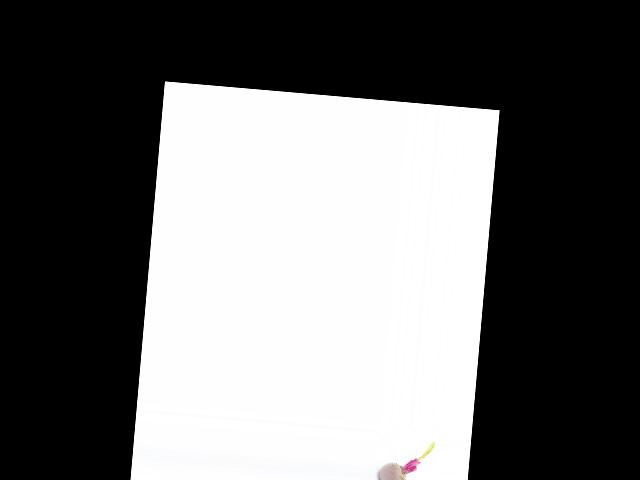beet: (377, 438, 434, 480)
